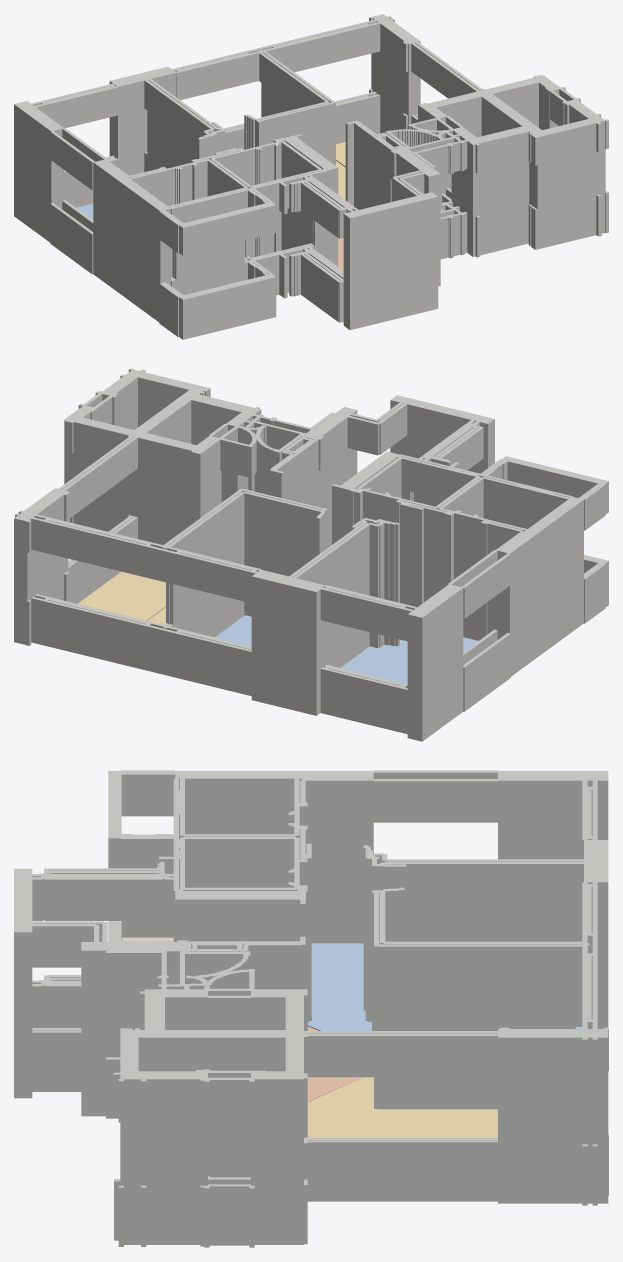
The picture shows the model from 3 angles, top to bottom: view 1: azimuth 30°, elevation 25°; view 2: azimuth 150°, elevation 25°; view 3: azimuth 270°, elevation 25°; orthographic projection. The views are drawn at different scales.
Parts seen in each view (by area): view 1: walls; view 2: walls, room:living:2, room:bedroom:0, room:bedroom:3; view 3: walls, room:living:1, room:bedroom:0, room:kitchen:8.
Part boxes in pixels (<box>): walls: <box>14,14,608,339</box>; walls: <box>14,368,608,741</box>; room:living:2: <box>77,571,165,620</box>; room:bedroom:0: <box>341,637,478,684</box>; room:bedroom:3: <box>215,615,251,646</box>; walls: <box>14,770,608,1247</box>; room:living:1: <box>307,1077,497,1137</box>; room:bedroom:0: <box>307,943,371,1030</box>; room:kitchen:8: <box>307,1026,362,1101</box>.
Bounding box in the file's own units: 11.28 × 2.8 × 9.11.
